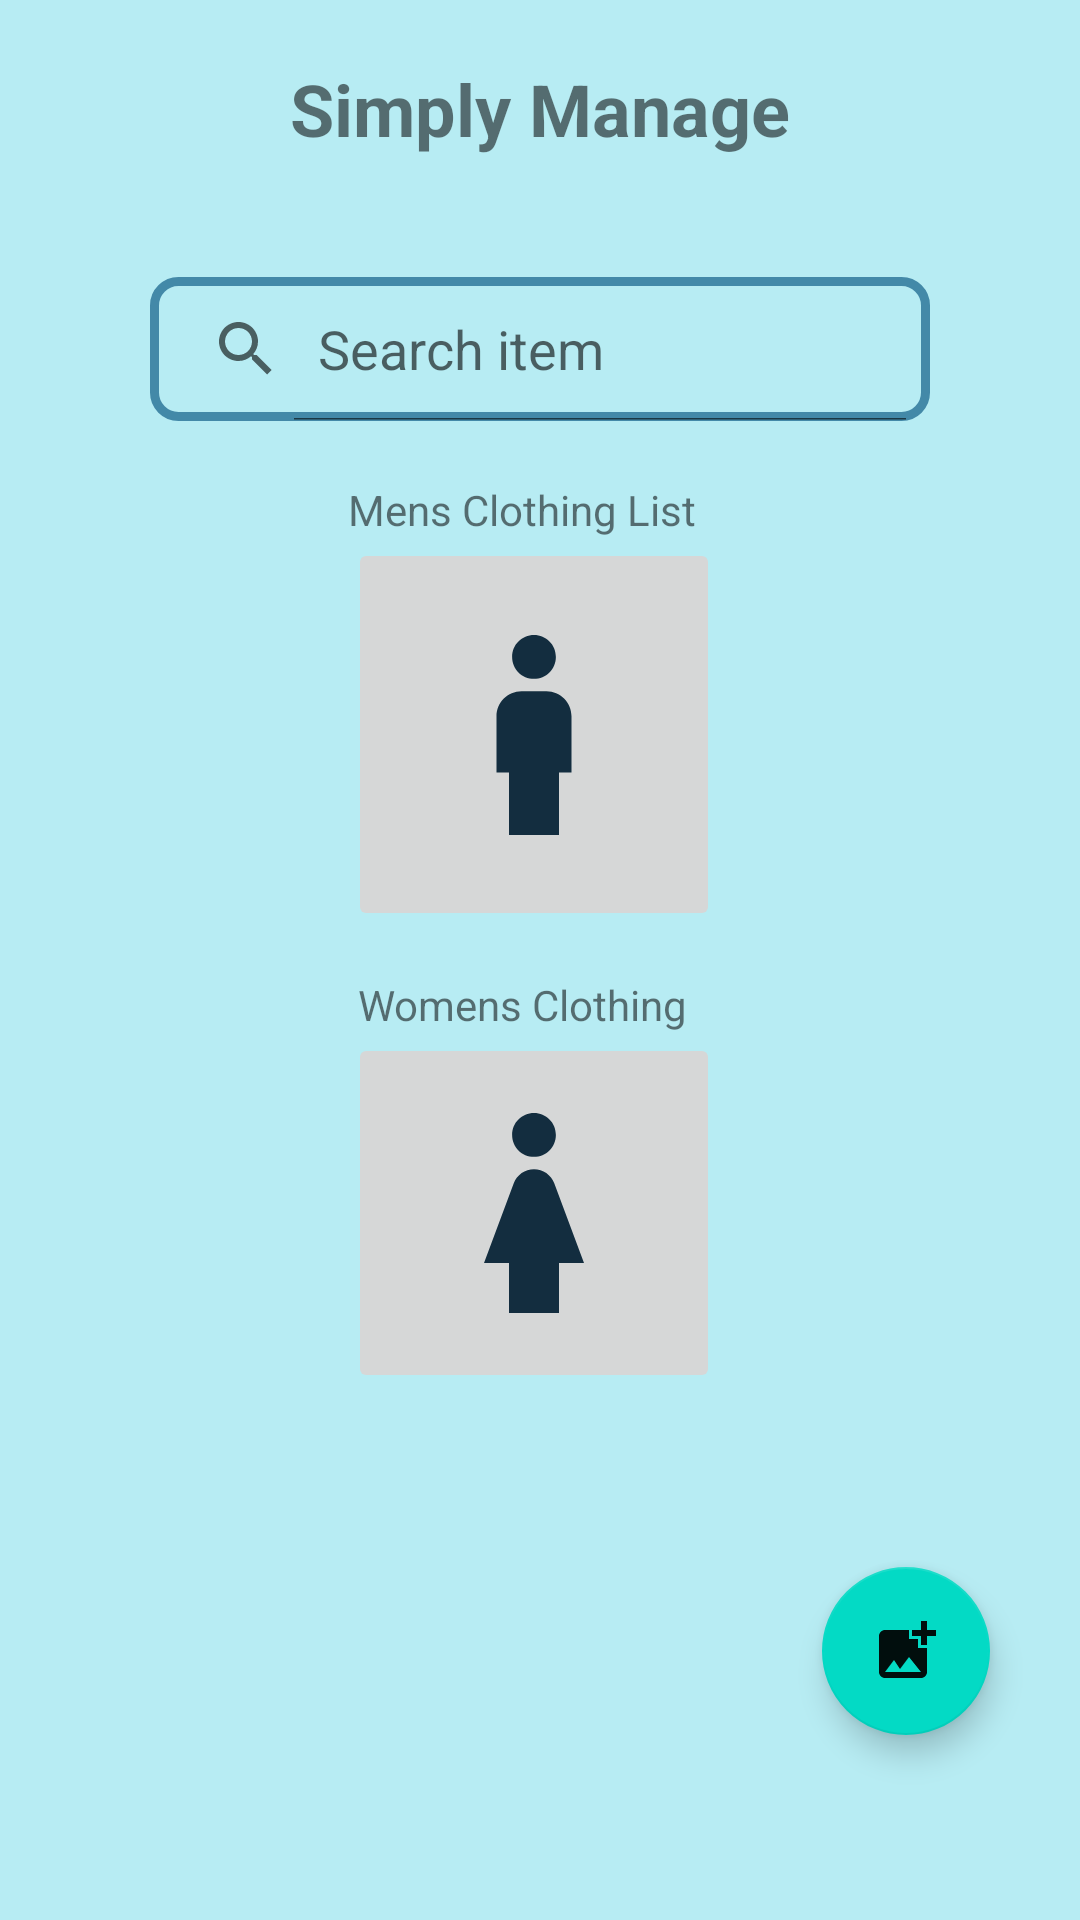

Where to tap for icons on this 1080*1920 app screen, as (x,y):
add photo alternate: (906,1651)
boy: (534,734)
girl: (534,1213)
